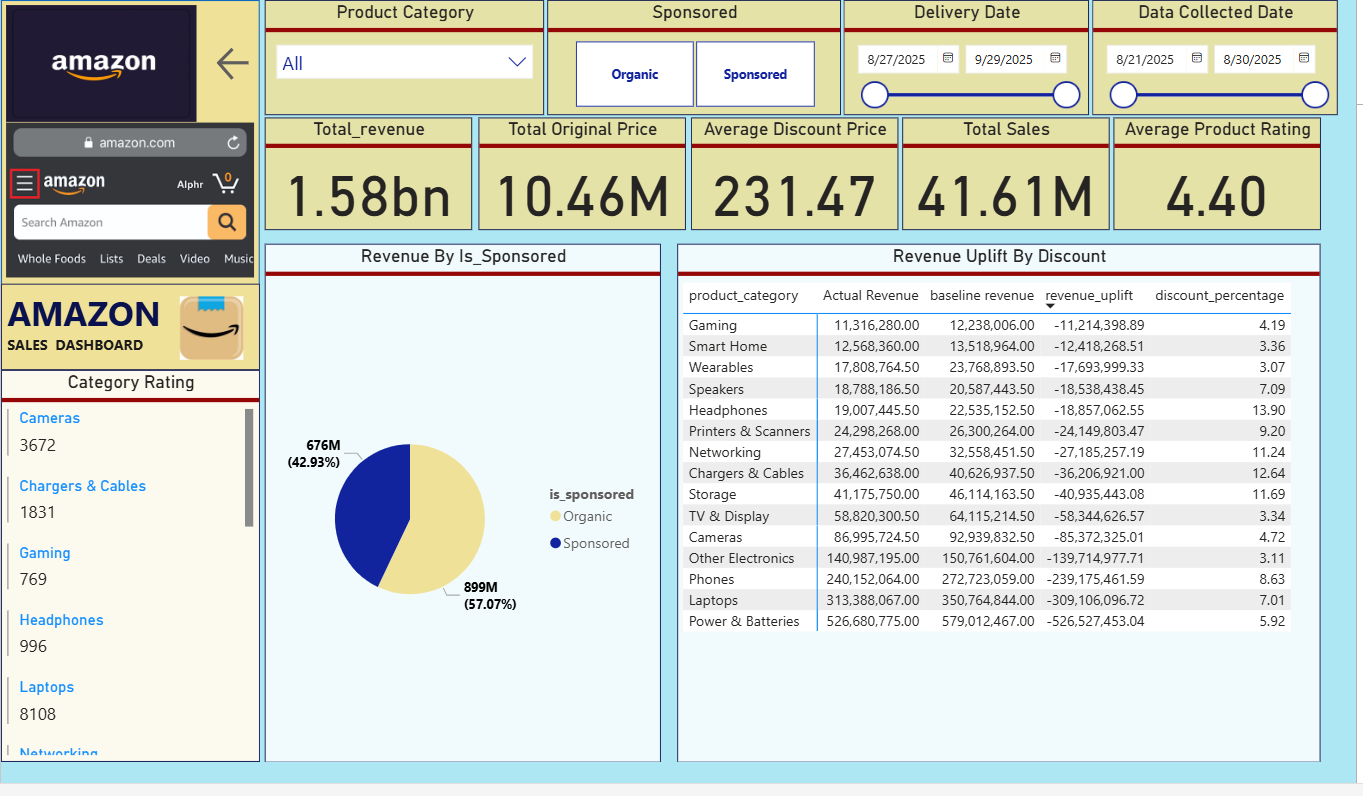

The page's visual inventory and layout, read from the dashboard file:
{"tool":"powerbi","page":{"name":"Revenue_uplift","canvas":[1280,720],"ordinal":1},"visuals":[{"type":"card","title":"Total_revenue","fields":{"Values":["Sum(amazon_products_sales_data_cleaned.Total_revenue)"]},"box":[249.5,111,195.7,106.4],"z":0},{"type":"card","title":"Average Discount Price","fields":{"Values":["Avg(amazon_products_sales_data_cleaned.discounted_price)"]},"box":[652,111.3,195.7,106.4],"z":1000},{"type":"card","title":"Total Original Price","fields":{"Values":["Sum(amazon_products_sales_data_cleaned.original_price)"]},"box":[451,111.3,195.7,106.4],"z":2000},{"type":"card","title":"Total Sales","fields":{"Values":["Sum(amazon_products_sales_data_cleaned.purchased_last_month)"]},"box":[852,111.3,195.7,106.4],"z":3000},{"type":"card","title":"Average Product Rating","fields":{"Values":["Avg(amazon_products_sales_data_cleaned.product_rating)"]},"box":[1052,111.3,195.7,106.4],"z":4000},{"type":"slicer","title":"Delivery Date","fields":{"Values":["amazon_products_sales_data_cleaned.delivery_date"]},"box":[796,0,232.3,108.8],"z":5000},{"type":"slicer","title":"Data Collected Date","fields":{"Values":["amazon_products_sales_data_cleaned.data_collected_at"]},"box":[1031,0,232.3,108.8],"z":6000},{"type":"slicer","title":"Product Category","fields":{"Values":["amazon_products_sales_data_cleaned.product_category"]},"box":[249.5,0,264.1,108.8],"z":7000},{"type":"slicer","title":"Sponsored","fields":{"Values":["amazon_products_sales_data_cleaned.is_sponsored"]},"box":[516,0,277.6,108.8],"z":8000},{"type":"shape","box":[0,0,244.6,720.2],"z":9000},{"type":"image","box":[0,0,189.5,119.8],"z":10000},{"type":"multiRowCard","title":"Category Rating","fields":{"Values":["amazon_products_sales_data_cleaned.product_category","CountNonNull(amazon_products_sales_data_cleaned.product_rating)"]},"box":[0,349.7,244.6,370.5],"z":11000},{"type":"image","box":[0,111.3,244.6,156.5],"z":12000},{"type":"textbox","box":[0,267.8,244.6,81.9],"z":13000},{"type":"image","box":[163.9,275.1,69.7,69.7],"z":14000},{"type":"pivotTable","title":"Revenue Uplift By Discount","fields":{"Rows":["amazon_products_sales_data_cleaned.product_category"],"Values":["amazon_products_sales_data_cleaned.Actual Revenue","amazon_products_sales_data_cleaned.baseline revenue","amazon_products_sales_data_cleaned.revenue_upsplit","Avg(amazon_products_sales_data_cleaned.discount_percentage)"]},"box":[639.5,229.9,607.7,490.4],"z":15000},{"type":"pieChart","title":"Revenue By Is_Sponsored","fields":{"Y":["amazon_products_sales_data_cleaned.total_revenue()"],"Category":["amazon_products_sales_data_cleaned.is_sponsored"]},"box":[249.5,229.9,374.2,490.4],"z":16000},{"type":"actionButton","box":[199.3,40.4,45.2,40.4],"z":17000}]}

Visuals, with their boxes on the page's 1280x720 design canvas (x1, y1, x2, y2). These are canvas units, not pixel positions in the 1363x796 screenshot, which may show the page scaled, cropped or inside an application window:
"Total_revenue" card: detection(250, 111, 445, 217)
"Average Discount Price" card: detection(652, 111, 848, 218)
"Total Original Price" card: detection(451, 111, 647, 218)
"Total Sales" card: detection(852, 111, 1048, 218)
"Average Product Rating" card: detection(1052, 111, 1248, 218)
"Delivery Date" slicer: detection(796, 0, 1028, 109)
"Data Collected Date" slicer: detection(1031, 0, 1263, 109)
"Product Category" slicer: detection(250, 0, 514, 109)
"Sponsored" slicer: detection(516, 0, 794, 109)
shape: detection(0, 0, 245, 720)
image: detection(0, 0, 190, 120)
"Category Rating" multiRowCard: detection(0, 350, 245, 720)
image: detection(0, 111, 245, 268)
textbox: detection(0, 268, 245, 350)
image: detection(164, 275, 234, 345)
"Revenue Uplift By Discount" pivotTable: detection(640, 230, 1247, 720)
"Revenue By Is_Sponsored" pieChart: detection(250, 230, 624, 720)
actionButton: detection(199, 40, 244, 81)
